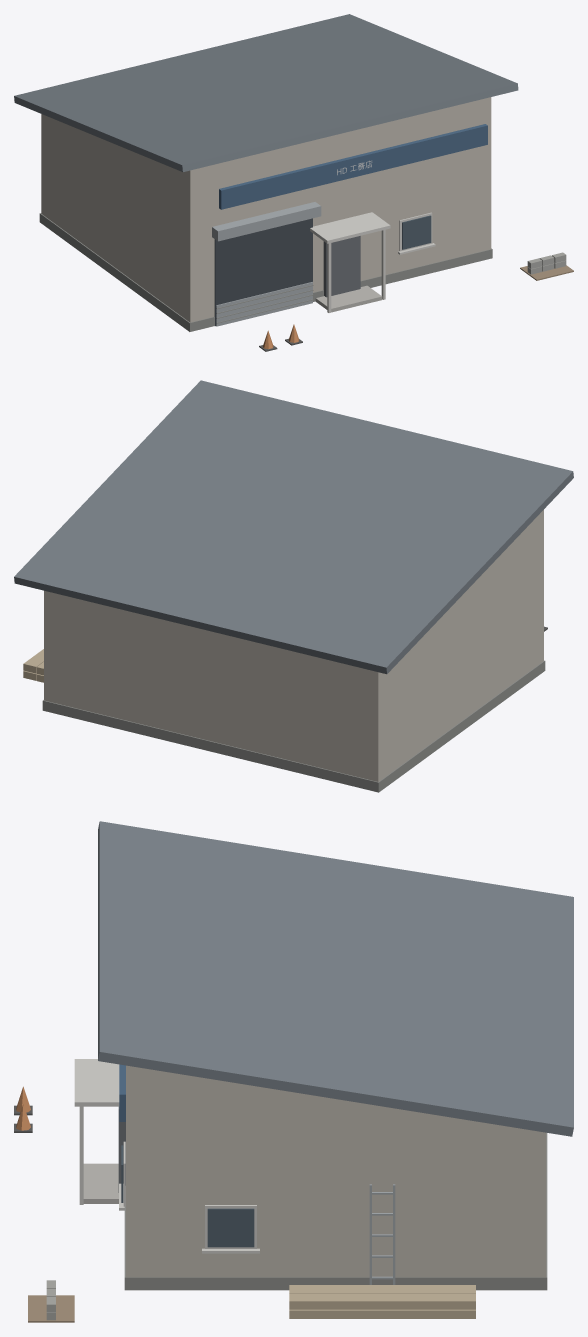
File: shop_koumuten.glb
3 renders of one model, top to bottom at view 1: azimuth 30°, elevation 25°; view 2: azimuth 150°, elevation 25°; view 3: azimuth 270°, elevation 25°, orthographic. The views are drawn at different scales.
Visible parts, largest first — view 1: Static, Sign; view 2: Static; view 3: Static.
Boxes of the visible parts, bbox=[...] form: Static: bbox=[14, 14, 573, 351]; Sign: bbox=[219, 124, 487, 209]; Static: bbox=[14, 380, 573, 792]; Static: bbox=[14, 821, 573, 1322].
Size of the model in its own units: 12.77 by 5.91 by 12.
